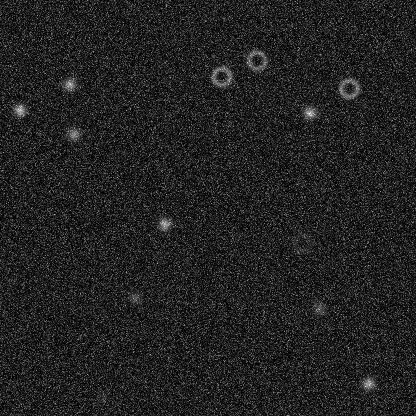Ring: (209, 64, 233, 88), (290, 231, 314, 255), (244, 48, 268, 72), (336, 76, 360, 100)
Spot: (156, 216, 172, 232), (126, 289, 142, 305), (301, 104, 317, 120), (311, 300, 327, 316), (65, 125, 81, 141), (360, 375, 376, 391), (11, 101, 27, 117), (94, 388, 110, 404), (61, 76, 77, 92)
